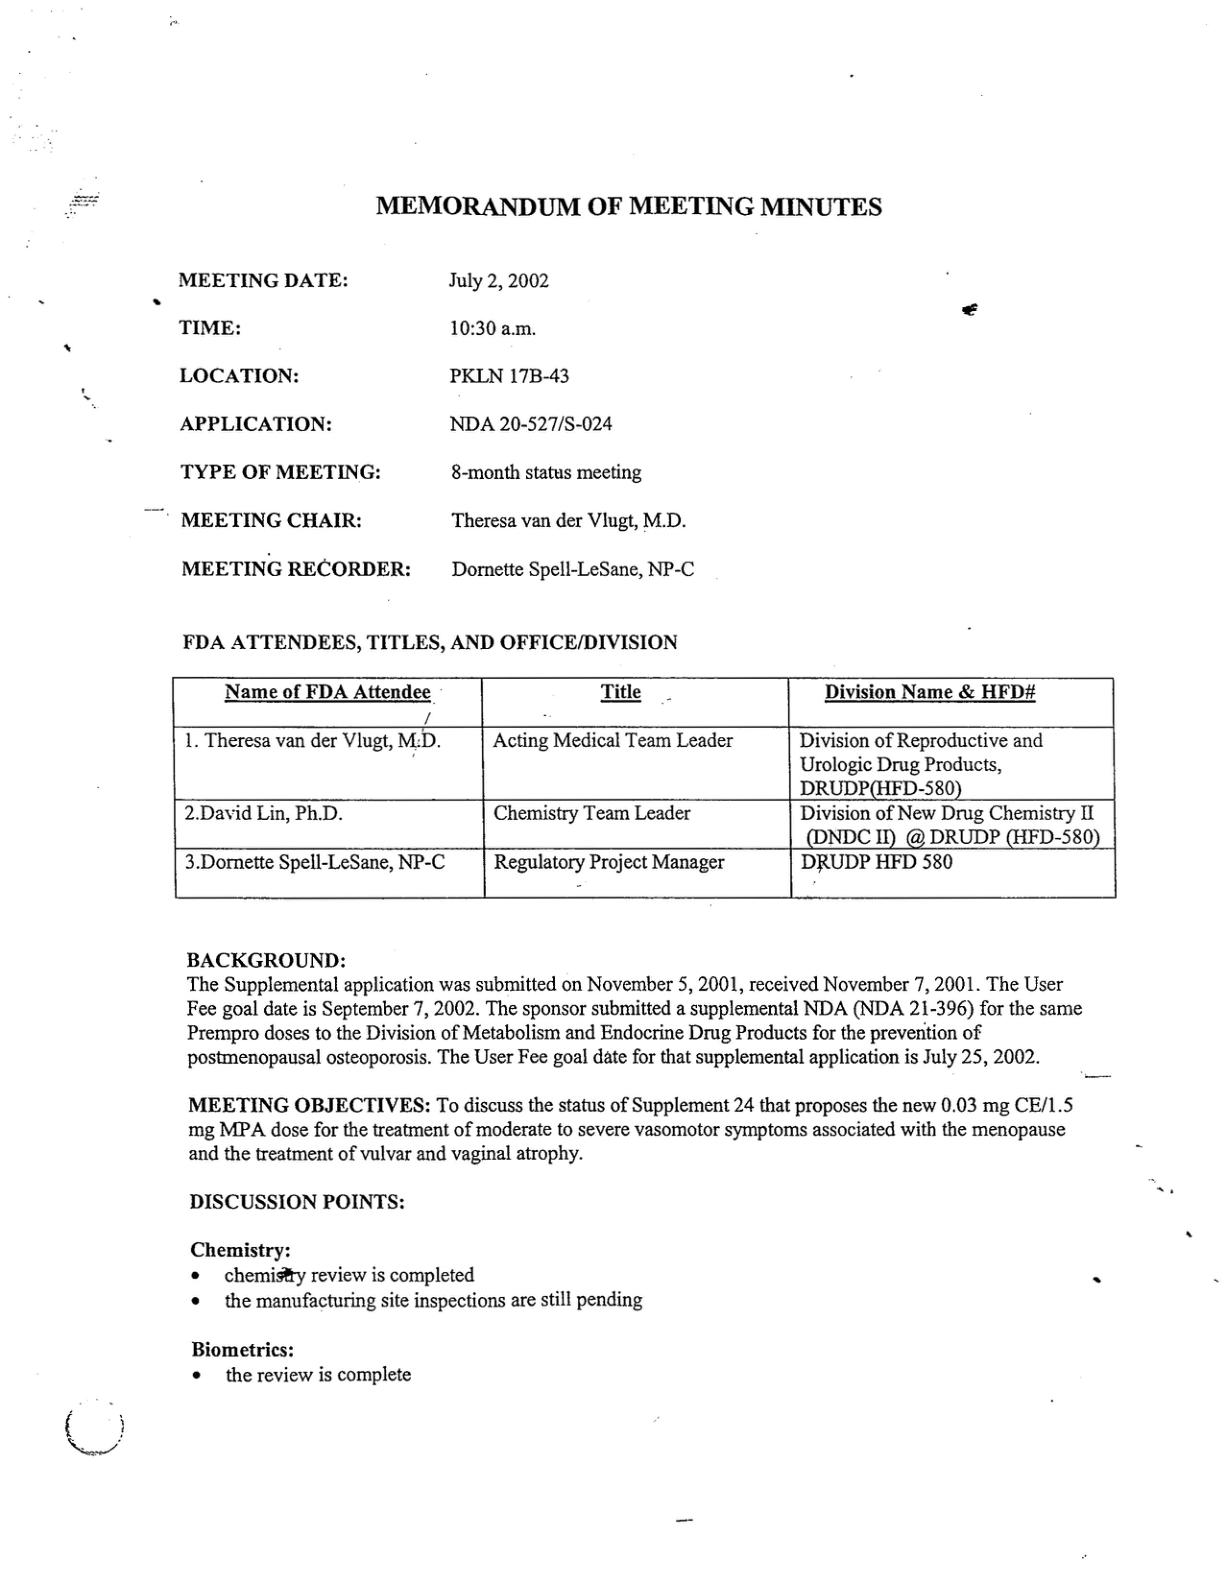full_lined: (168, 672, 1120, 901)
nolines: (176, 267, 695, 580)
